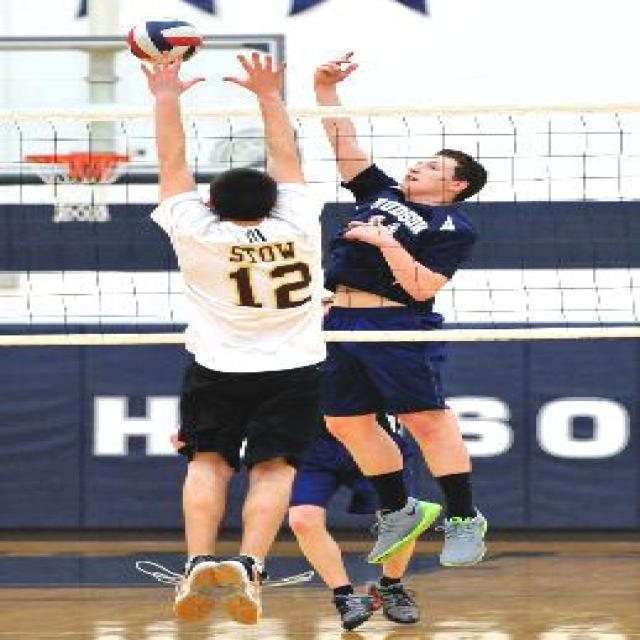volleyball: (126, 14, 202, 64)
